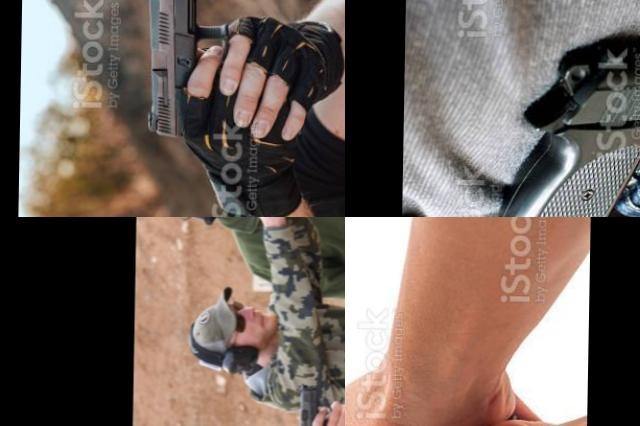handgun: (489, 21, 640, 217), (138, 0, 241, 145), (294, 379, 342, 426), (238, 217, 291, 233)
